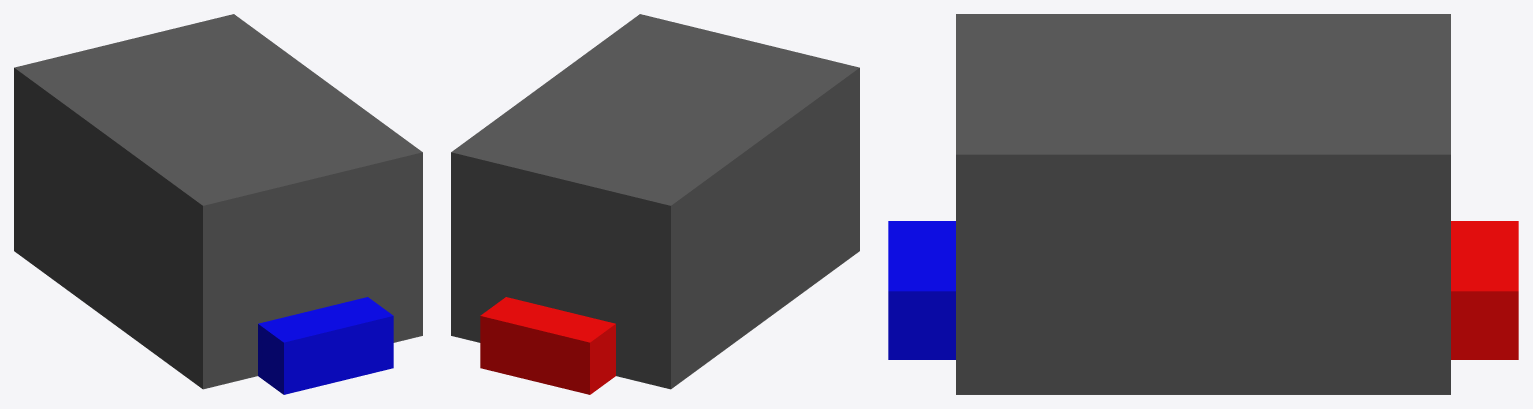
File: map_rextangular.fbx
The picture shows the model from 3 angles, left to right: view 1: azimuth 30°, elevation 25°; view 2: azimuth 150°, elevation 25°; view 3: azimuth 270°, elevation 25°; orthographic projection. The views are drawn at different scales.
Parts seen in each view (by area): view 1: Cube; view 2: Cube; view 3: Cube.
Boxes of the visible parts, x1,y1,x2,y2 form: Cube: (14, 14, 422, 394); Cube: (451, 14, 859, 394); Cube: (888, 14, 1518, 394).
Bounding box in the file's own units: 1434 × 1145 × 2719.
1 material, 1 textured.
